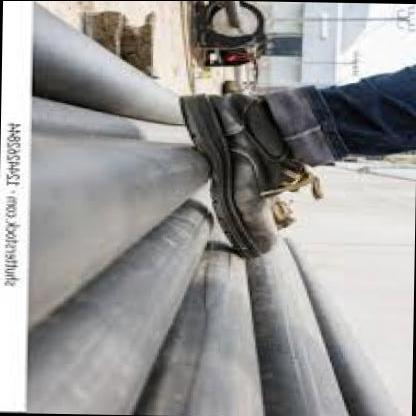safety-shoe: (148, 83, 322, 265)
